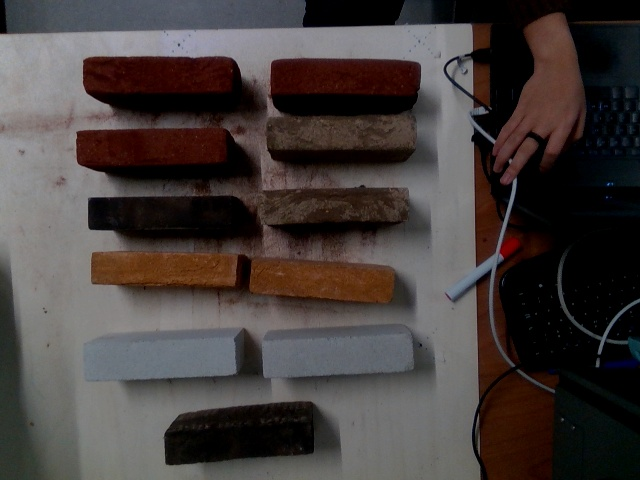brick-side: (163, 415, 314, 465), (262, 332, 412, 378), (85, 337, 235, 380), (269, 57, 418, 98), (248, 259, 397, 300), (78, 125, 220, 167), (85, 56, 234, 94), (267, 116, 415, 150), (92, 251, 234, 286), (86, 195, 234, 228), (261, 188, 403, 221)
